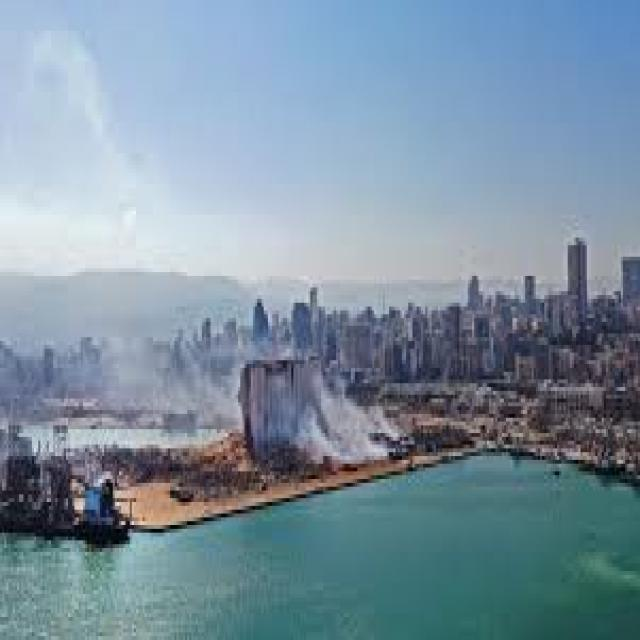explosion: (140, 281, 404, 493)
